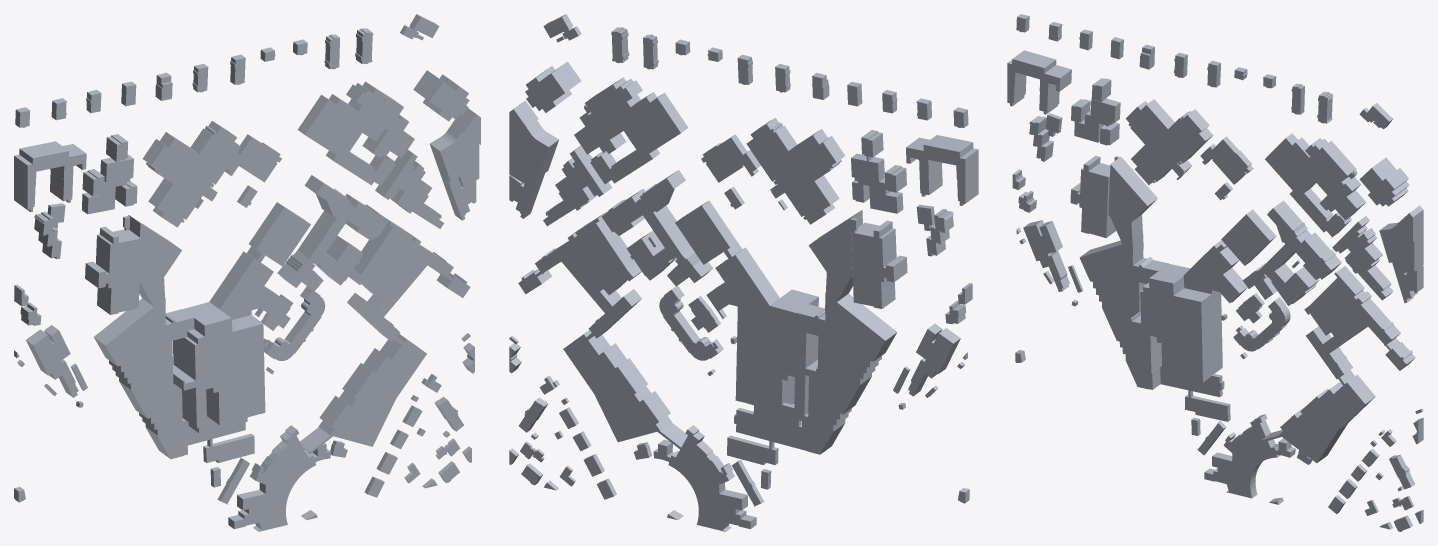
File: meilahti-hospital-campus-buildings.obj
The picture shows the model from 3 angles, left to right: view 1: azimuth 30°, elevation 25°; view 2: azimuth 150°, elevation 25°; view 3: azimuth 330°, elevation 25°; orthographic projection. The views are drawn at different scales.
Parts seen in each view (by area): view 1: 1037061367-0, 1032385006-0, 103515411T-0, 1032385028-0, 103238493Y-0, 1032385039-0, 103238516P-0, 101757917E-0, 1032385017-0, 103238492X-0, 103238513L-0, 102748535V-0 (+16 smaller); view 2: 1037061367-0, 1032385006-0, 103515411T-0, 1032385028-0, 103238493Y-0, 1032385039-0, 103238516P-0, 101757917E-0, 1032385017-0, 103238492X-0, 103238513L-0, 102748535V-0 (+16 smaller); view 3: 1037061367-0, 1032385006-0, 1032385028-0, 1032385039-0, 103238493Y-0, 103515411T-0, 103238516P-0, 101757917E-0, 102748535V-0, 103238492X-0, 1032385017-0, 103238513L-0 (+14 smaller).
Part boxes in pixels (x1,y1,x2,y2): 1037061367-0: [94, 215, 194, 459]; 1032385006-0: [173, 302, 265, 433]; 103515411T-0: [300, 334, 426, 453]; 1032385028-0: [347, 216, 470, 341]; 103238493Y-0: [142, 121, 240, 227]; 1032385039-0: [277, 175, 388, 291]; 103238516P-0: [228, 425, 330, 531]; 101757917E-0: [297, 94, 395, 185]; 1032385017-0: [85, 226, 140, 314]; 103238492X-0: [14, 141, 86, 212]; 103238513L-0: [209, 246, 282, 319]; 102748535V-0: [346, 81, 414, 158]; 1037061367-0: [796, 210, 897, 454]; 1032385006-0: [735, 289, 818, 420]; 103515411T-0: [563, 330, 687, 449]; 1032385028-0: [518, 211, 641, 338]; 103238493Y-0: [746, 117, 845, 224]; 1032385039-0: [601, 170, 712, 286]; 103238516P-0: [653, 425, 756, 531]; 101757917E-0: [590, 92, 688, 183]; 1032385017-0: [851, 220, 907, 308]; 103238492X-0: [906, 135, 978, 205]; 103238513L-0: [706, 242, 779, 319]; 102748535V-0: [574, 77, 642, 154]; 1037061367-0: [1079, 156, 1168, 389]; 1032385006-0: [1130, 264, 1222, 381]; 1032385028-0: [1304, 266, 1415, 379]; 1032385039-0: [1243, 200, 1341, 305]; 103238493Y-0: [1125, 99, 1213, 184]; 103515411T-0: [1261, 370, 1375, 463]; 103238516P-0: [1204, 414, 1295, 498]; 101757917E-0: [1265, 133, 1351, 237]; 102748535V-0: [1305, 138, 1365, 220]; 103238492X-0: [1007, 50, 1071, 114]; 1032385017-0: [1070, 155, 1116, 237]; 103238513L-0: [1183, 240, 1247, 303].
Bounding box in the file's own units: 600 × 600 × 51.
